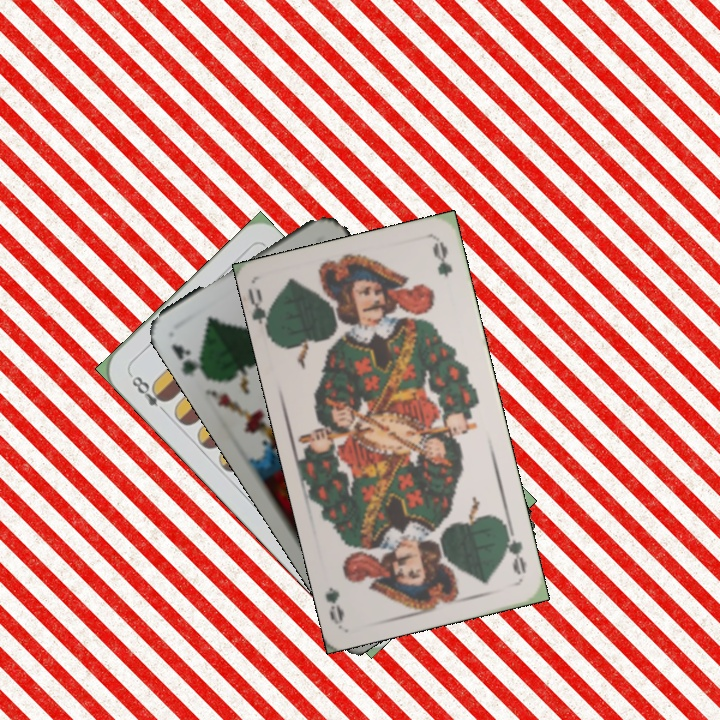E8: (125, 369, 172, 417)
GK: (167, 340, 208, 380)
GO: (247, 284, 277, 342), (501, 521, 529, 578)
